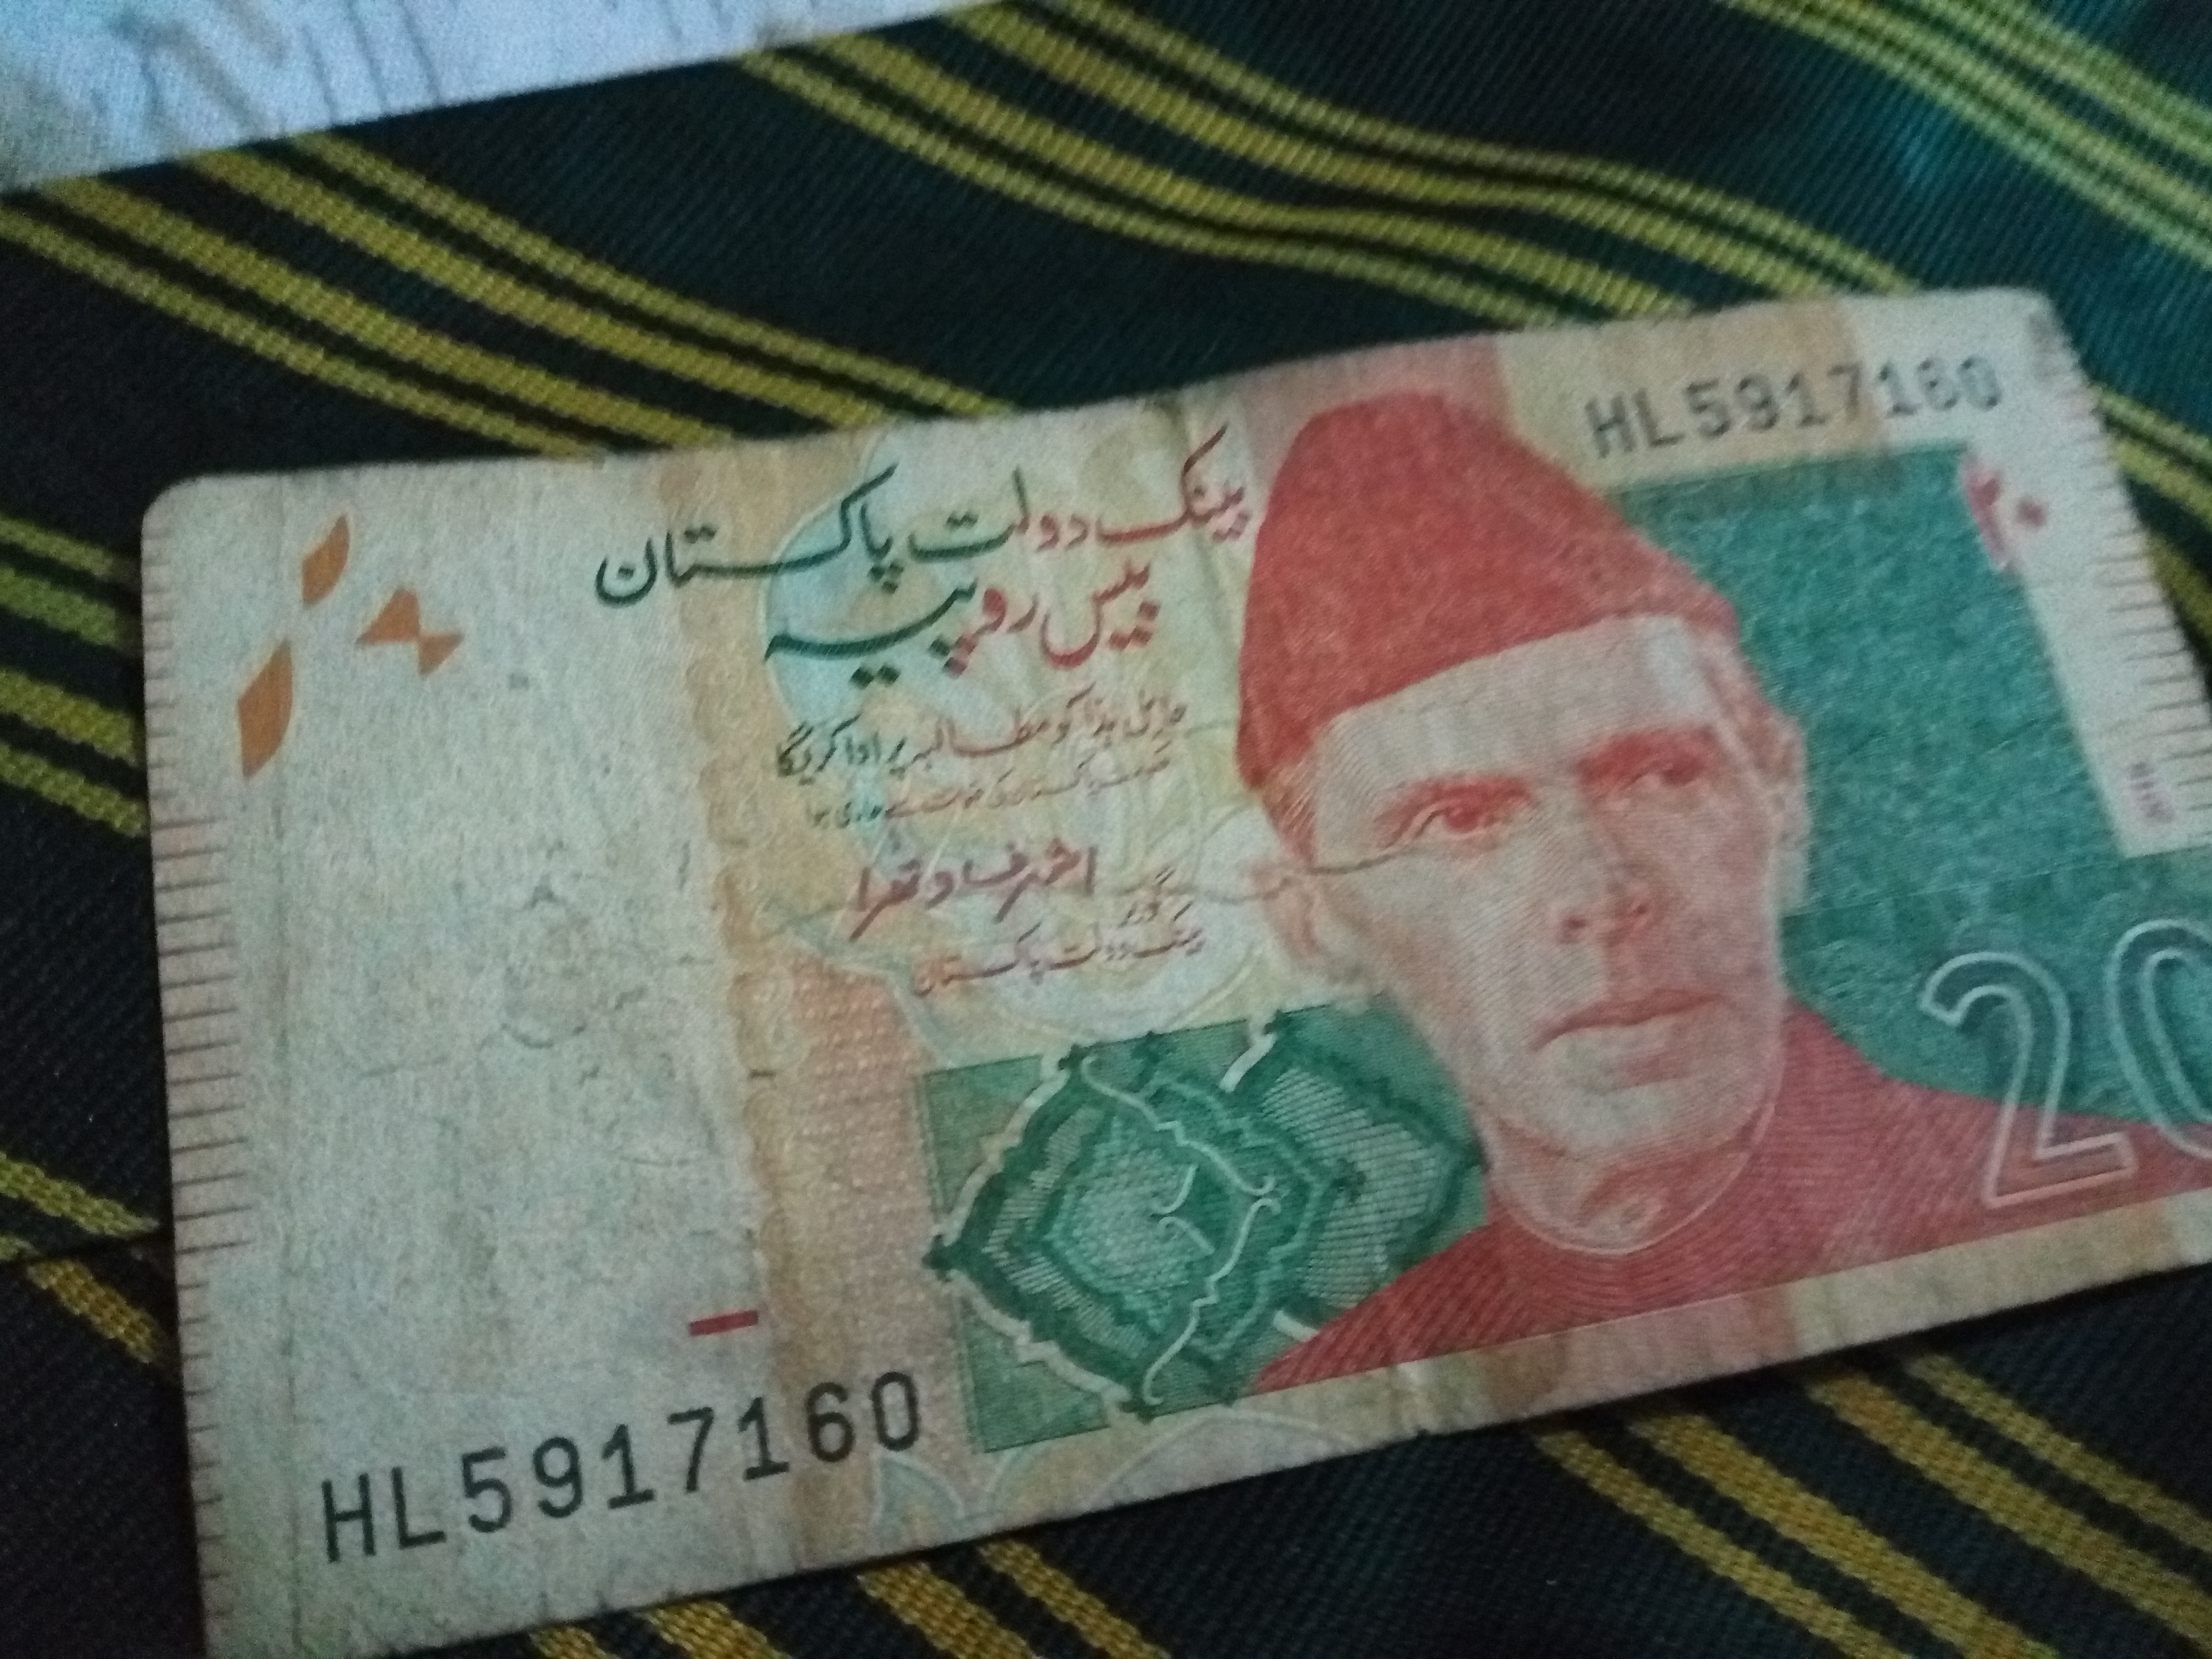20 rupee: (160, 300, 2179, 1631)
